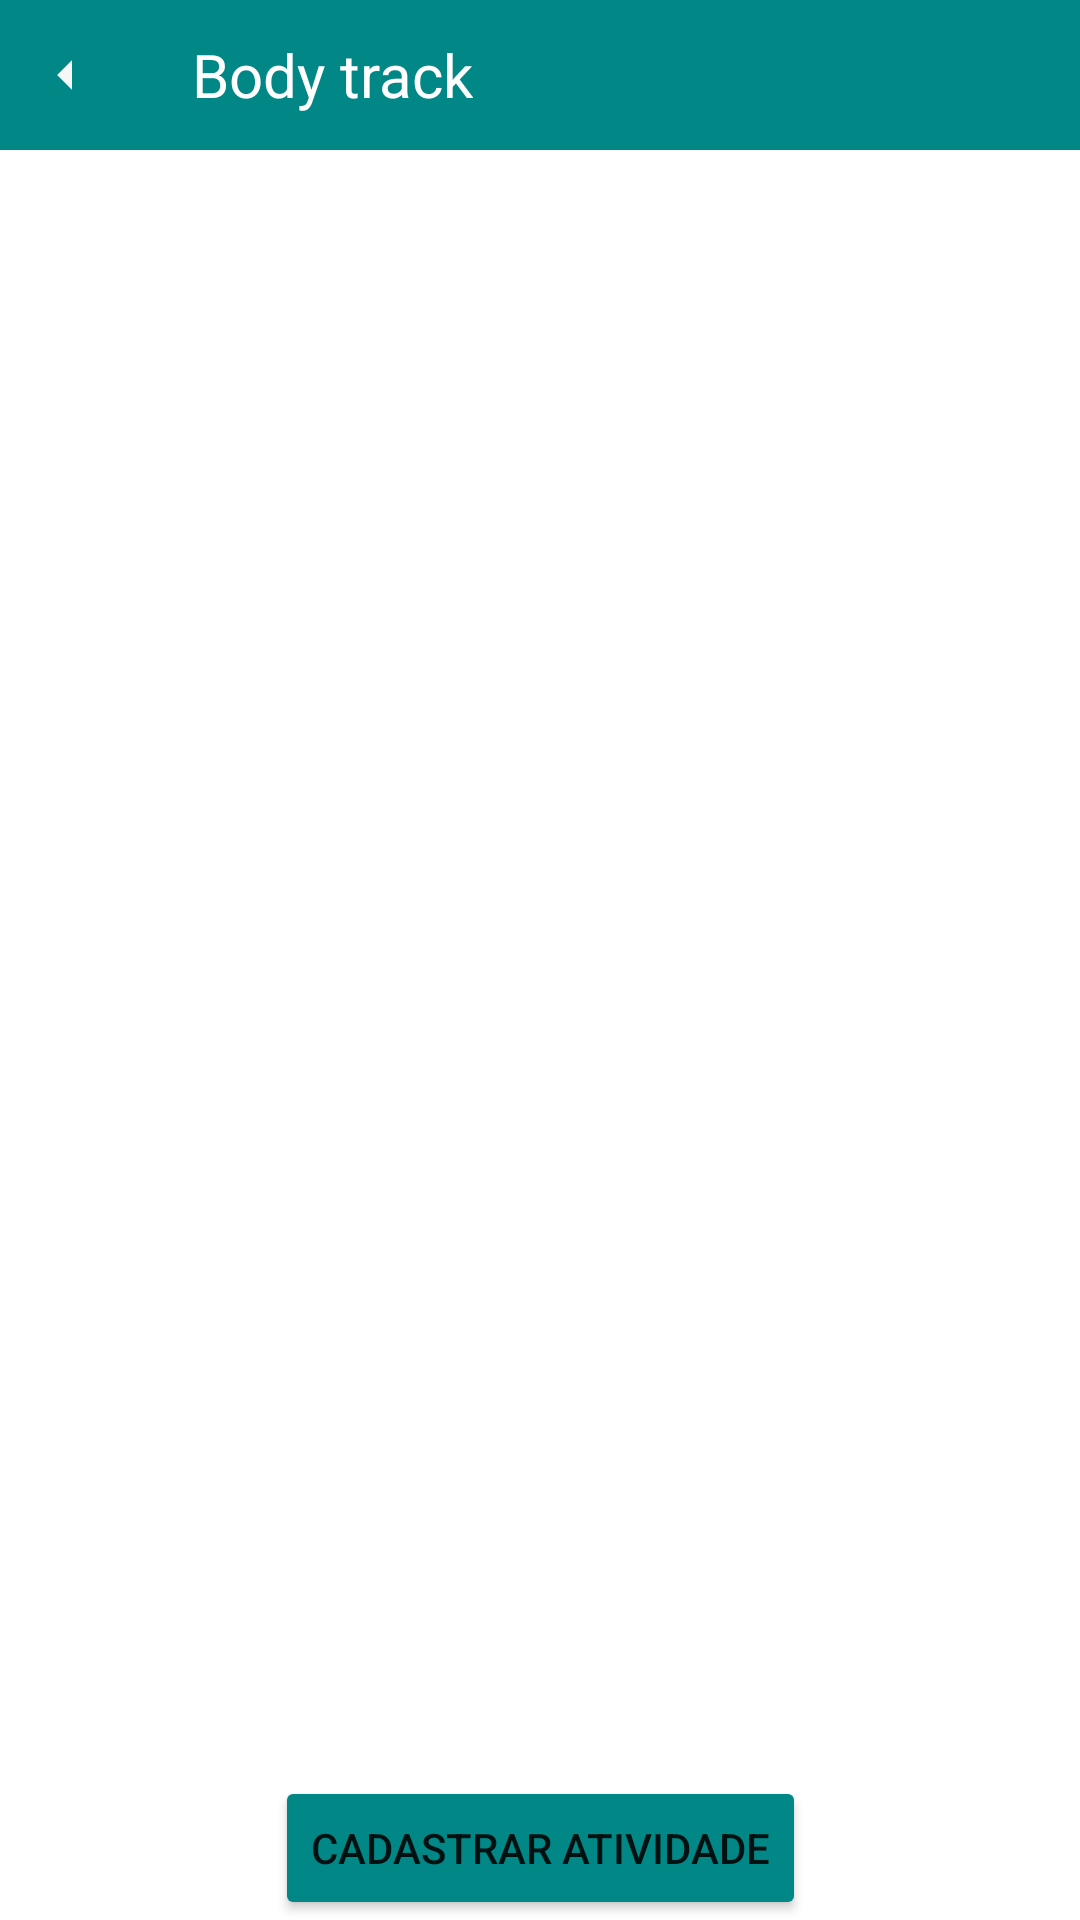

Icons on this 1080×1920 Android screen, each with its box as (x1, y1, x2, y2):
arrow left: (57, 60, 72, 90)
